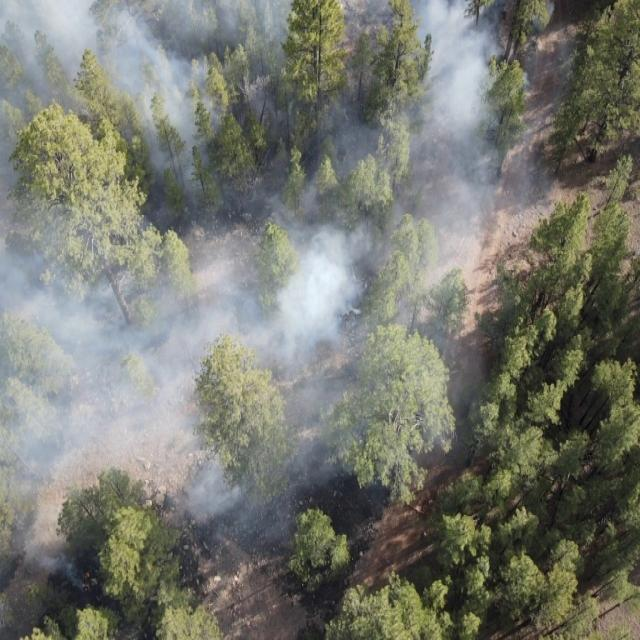smoke: (0, 137, 565, 306), (0, 306, 489, 464), (0, 0, 535, 135), (166, 464, 369, 561), (0, 465, 91, 595), (82, 568, 92, 582)
